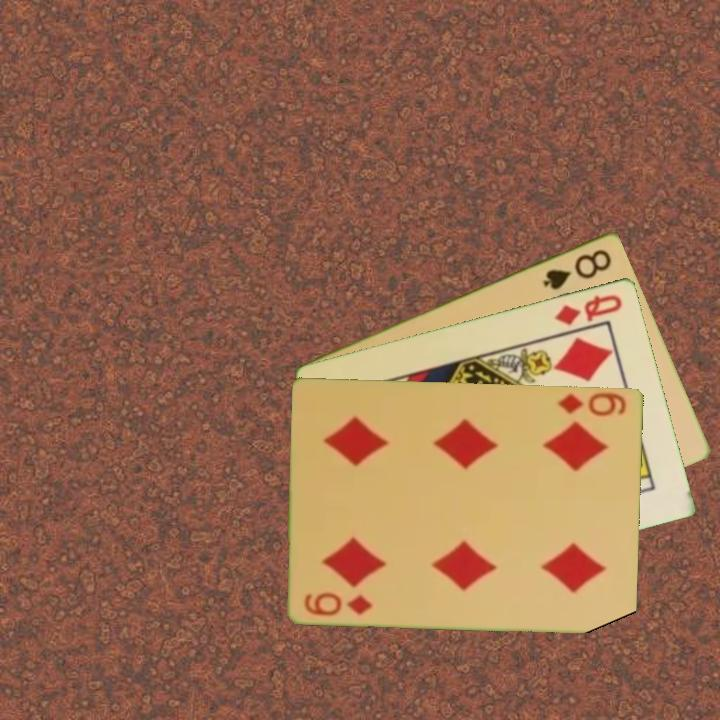6d: (555, 389, 629, 419), (301, 589, 375, 618)
8s: (539, 245, 615, 293)
Qd: (551, 290, 626, 328)
